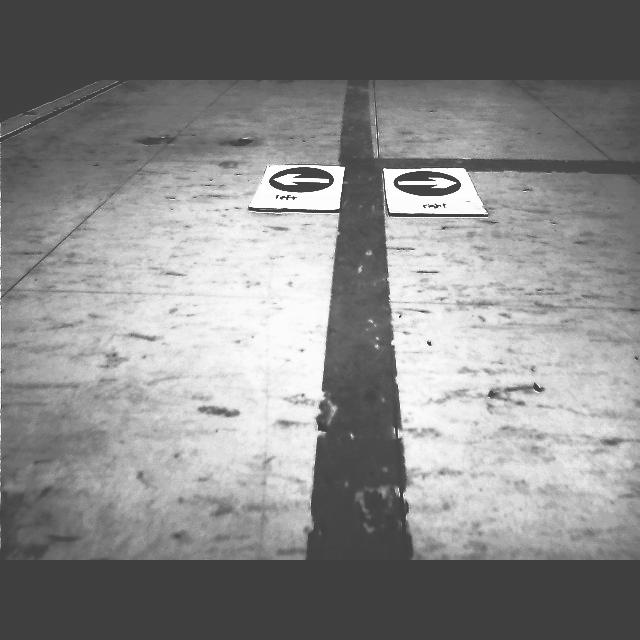TURN LEFT: (269, 167, 334, 191)
TURN RIGHT: (394, 171, 461, 195)
